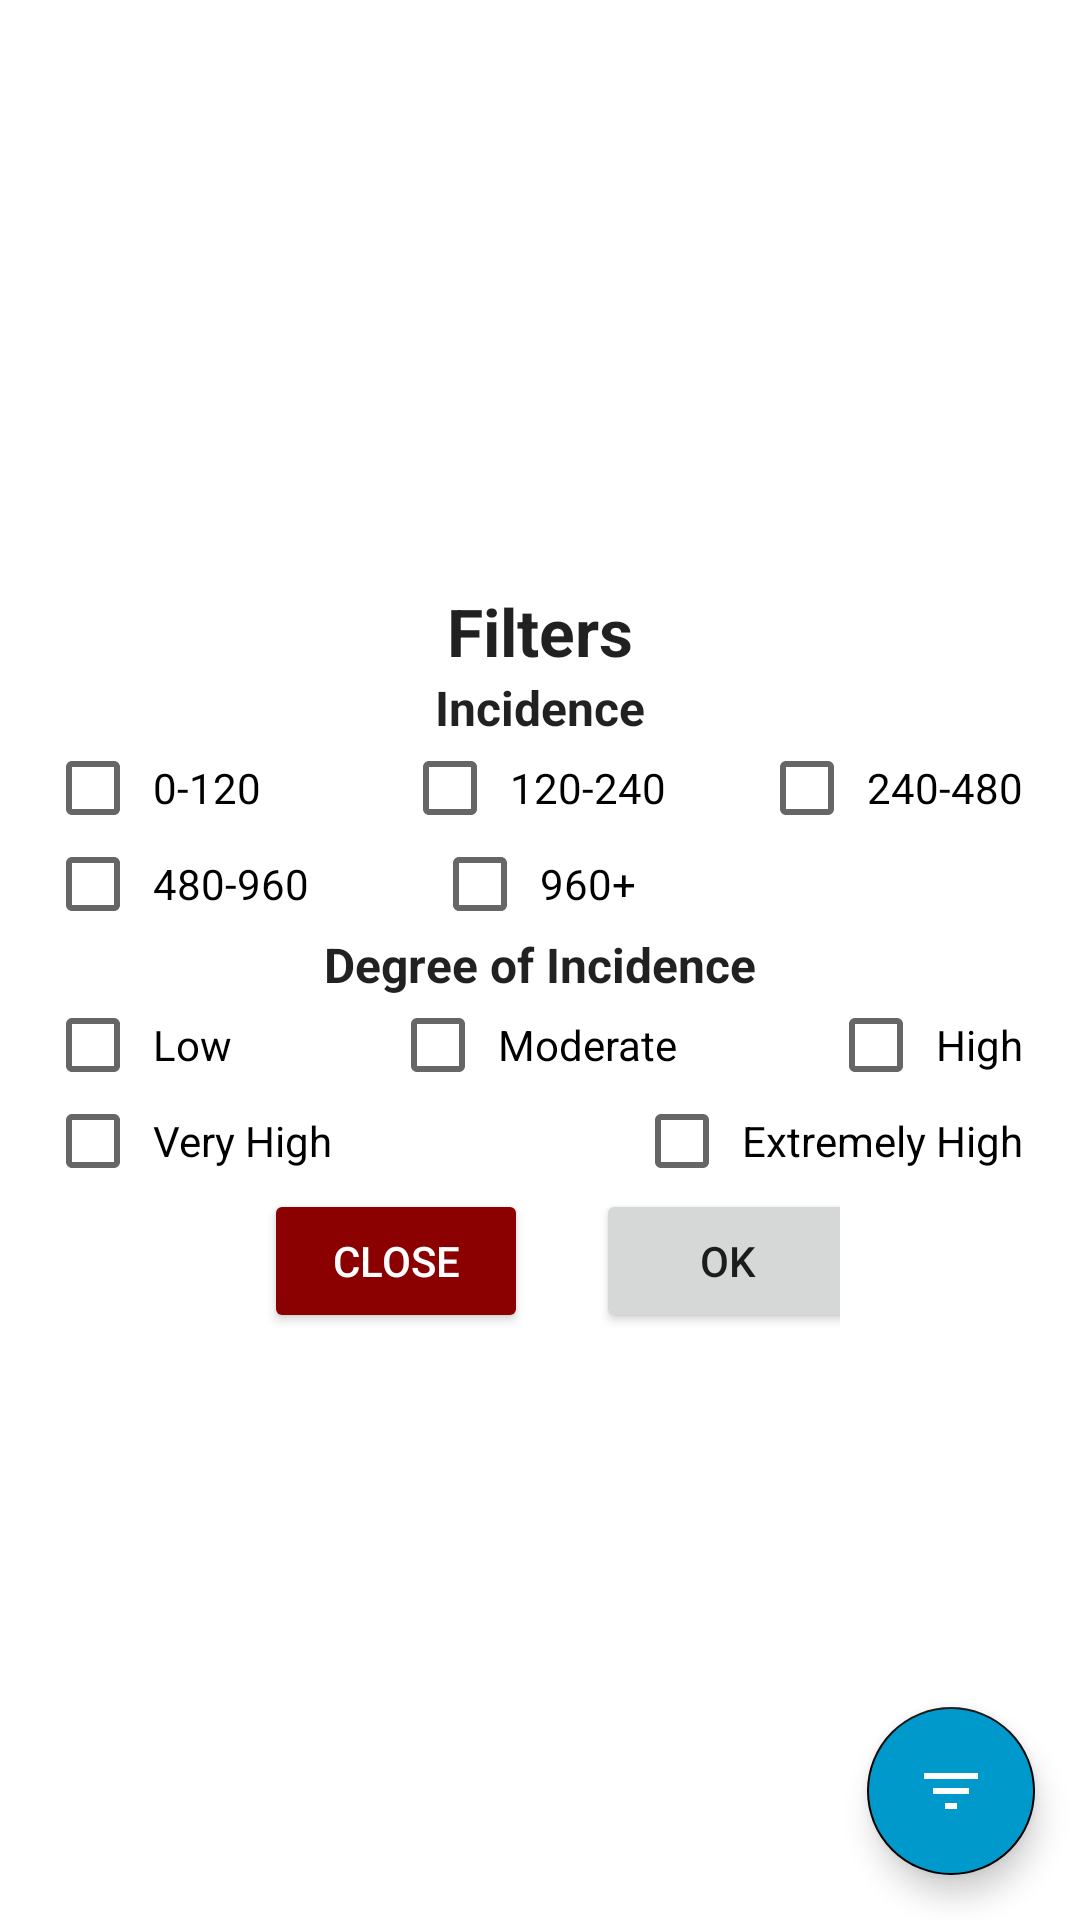

Screen size 1080px×1920px. Icon name, then its center in pixels as (x,y):
filter: (951,1791)
